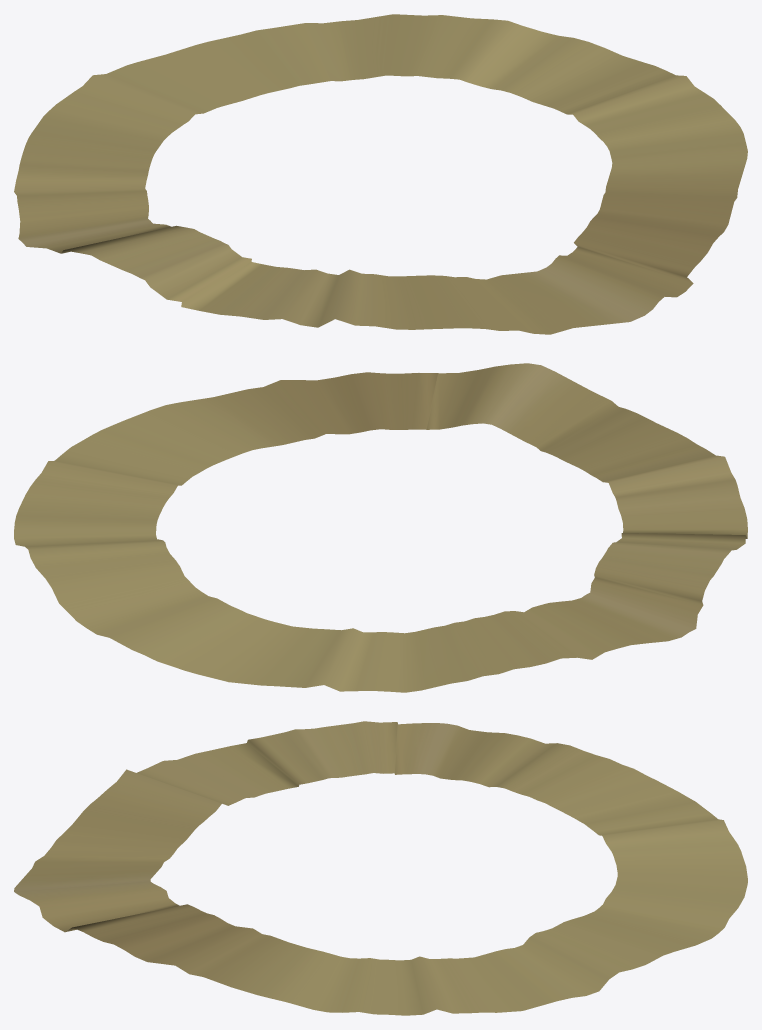
The model's file is Water Bush.fbx.
The picture shows the model from 3 angles, top to bottom: view 1: azimuth 30°, elevation 25°; view 2: azimuth 150°, elevation 25°; view 3: azimuth 270°, elevation 25°; orthographic projection. The views are drawn at different scales.
Parts seen in each view (by area): view 1: Сфера.001; view 2: Сфера.001; view 3: Сфера.001.
Boxes of the visible parts, box(x1,y1,x2,y2) form: Сфера.001: box(14, 14, 747, 334); Сфера.001: box(14, 363, 747, 692); Сфера.001: box(14, 721, 747, 1015).
Bounding box in the file's own units: 1681 × 57.32 × 1758.
